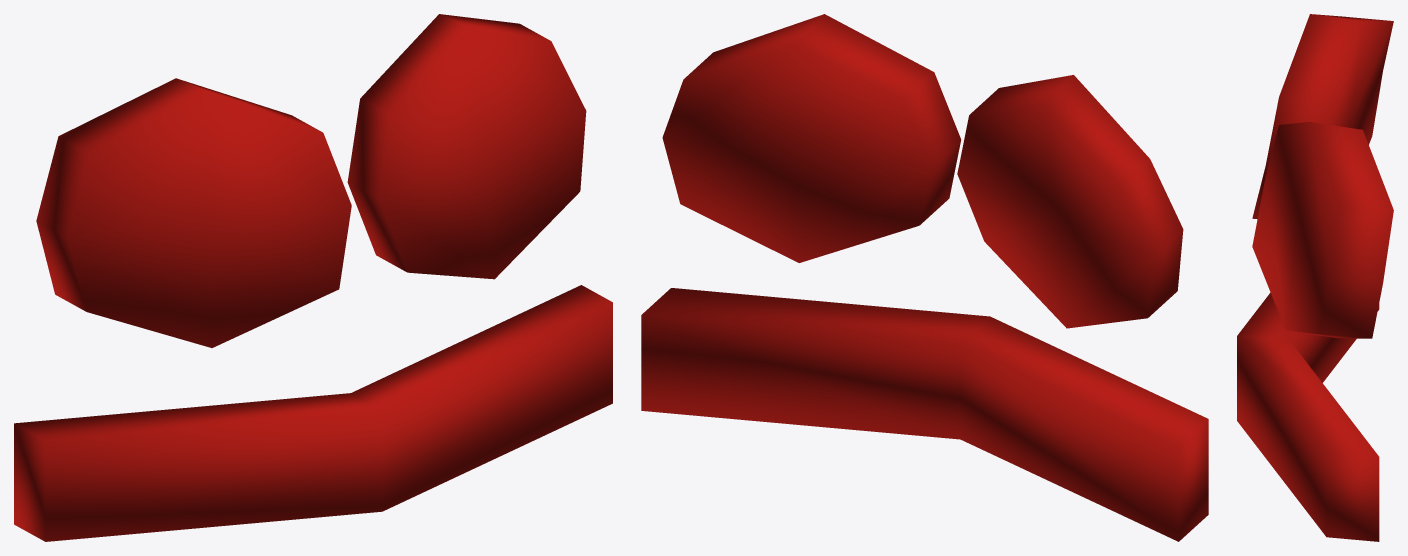
The model's file is Emoji.fbx.
3 views of the same model, side by side, from view 1: azimuth 30°, elevation 25°; view 2: azimuth 150°, elevation 25°; view 3: azimuth 270°, elevation 25° (orthographic). The views are drawn at different scales.
Parts seen in each view (by area): view 1: Emoji; view 2: Emoji; view 3: Emoji.
Boxes of the visible parts, x1,y1,x2,y2 form: Emoji: (14, 14, 612, 541); Emoji: (641, 14, 1208, 541); Emoji: (1237, 14, 1393, 541).
Size of the model in its own units: 1.18 by 0.8432 by 0.335.
